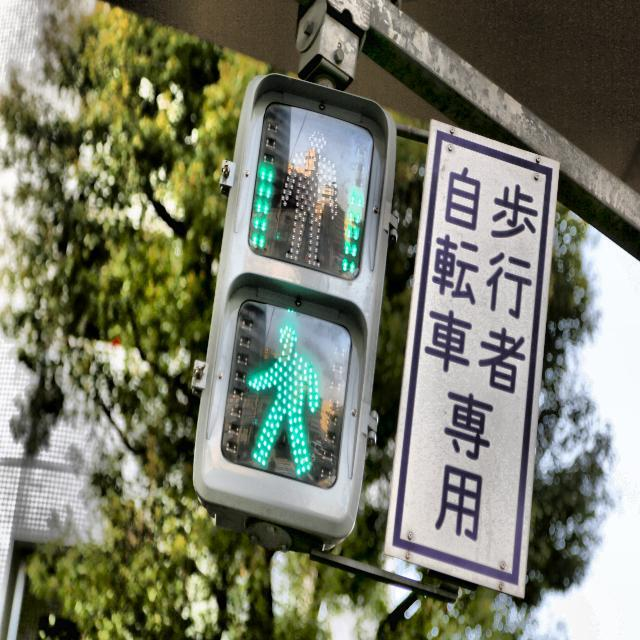green_light: (242, 314, 324, 480)
